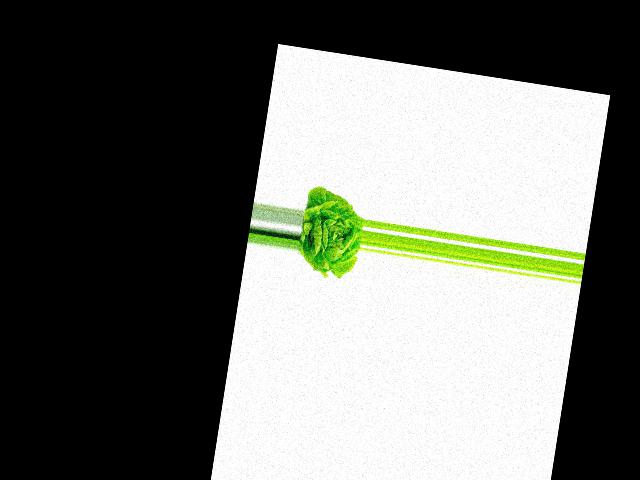lettuce: (294, 182, 368, 278)
